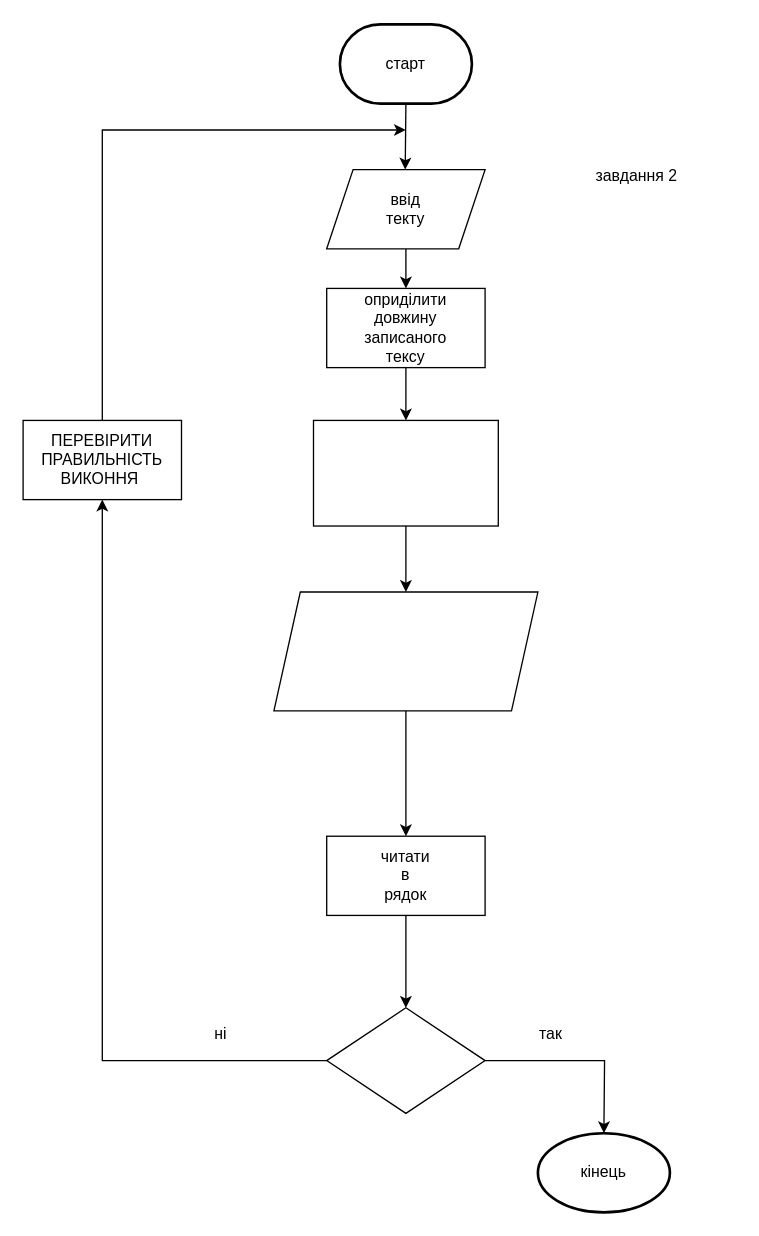
The diagram is 759 pixels wide and 1236 high, and some of its shapes have lost their labels. The shapes that lost their labels are listed below. From the top down, each one's box as (x1, y1, x2, y2) in pixels, then its label:
(312, 419, 498, 526): записати в стопчик кожну 3 бкуву
(273, 591, 538, 711): намотати стрічку на плицю
(325, 1006, 485, 1113): вийшло?
